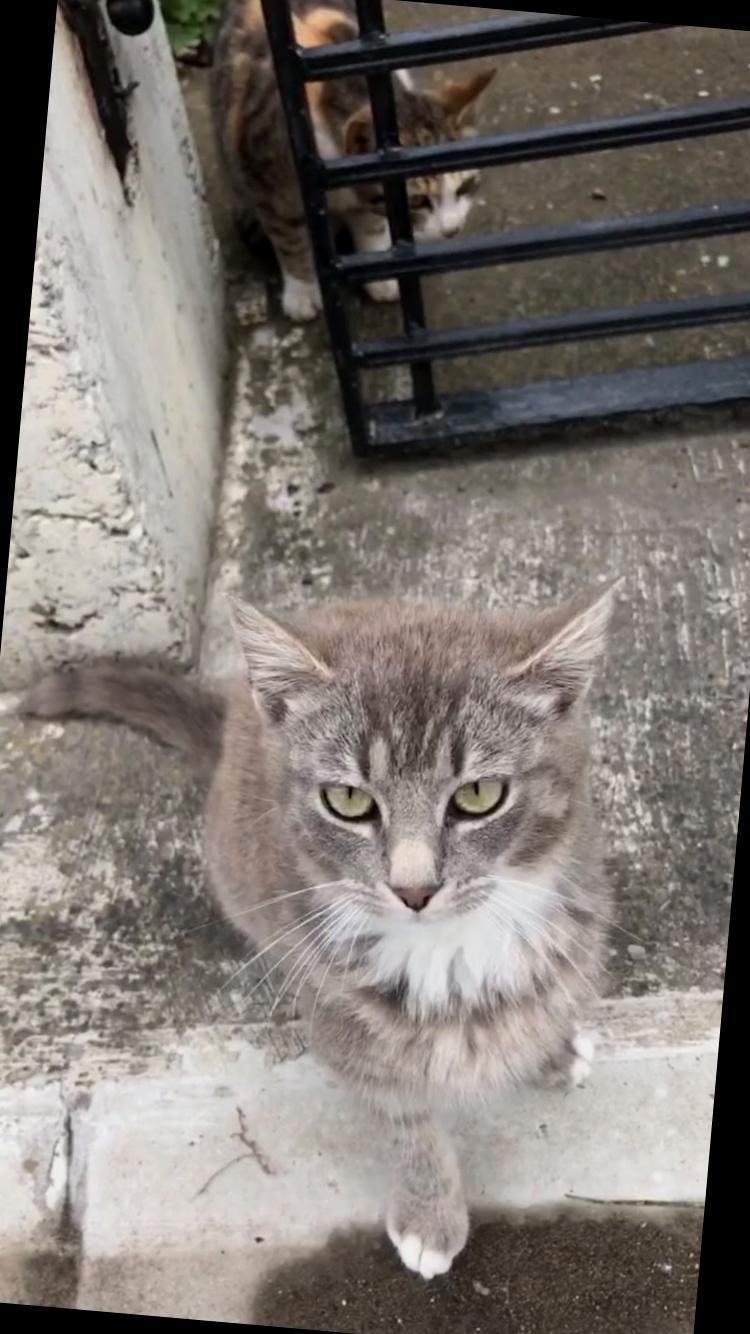macka: (0, 525, 637, 1288)
